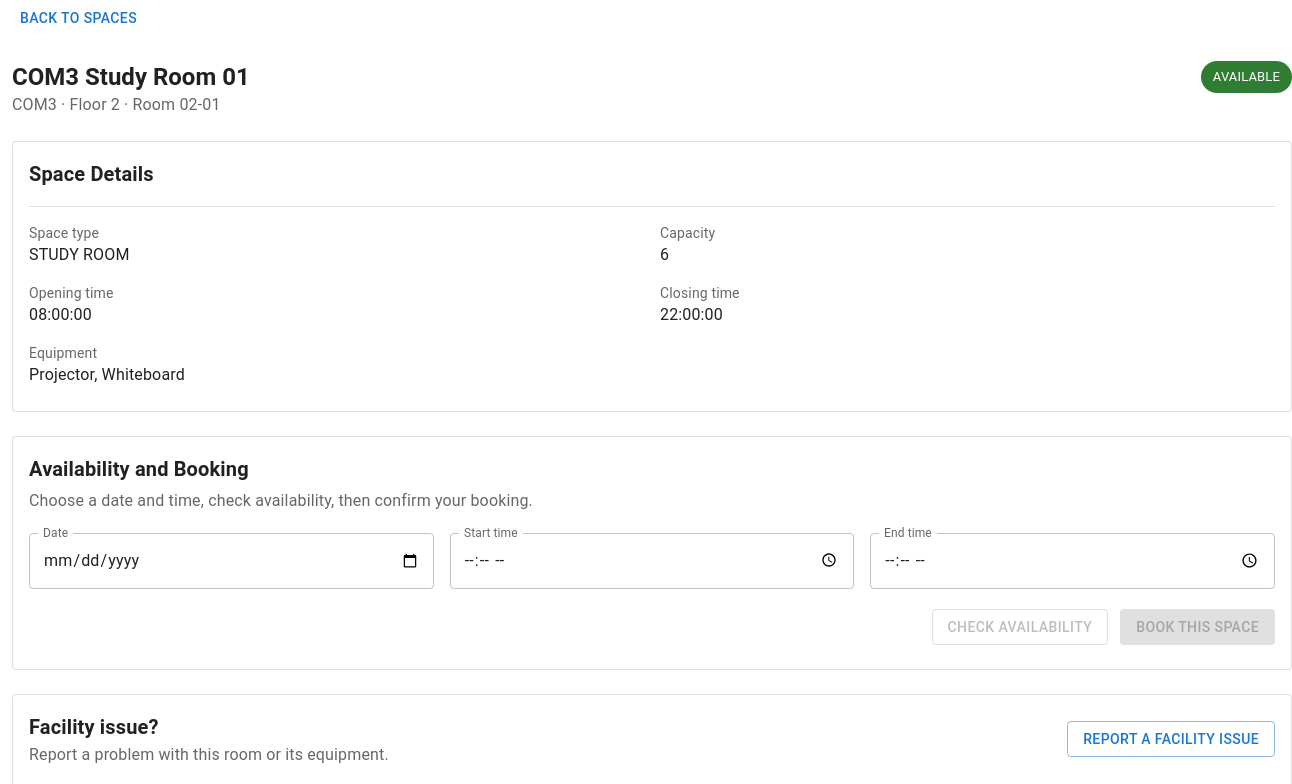
SpaceDetailsPage availability and booking › rejects an invalid time range without sending a request
Expected: the heading "COM3 Study Room 01" is shown, [12,60,250,92]
Type "2026-08-13" into the date field labelled "Date" at (231, 561), box [29,533,434,589]
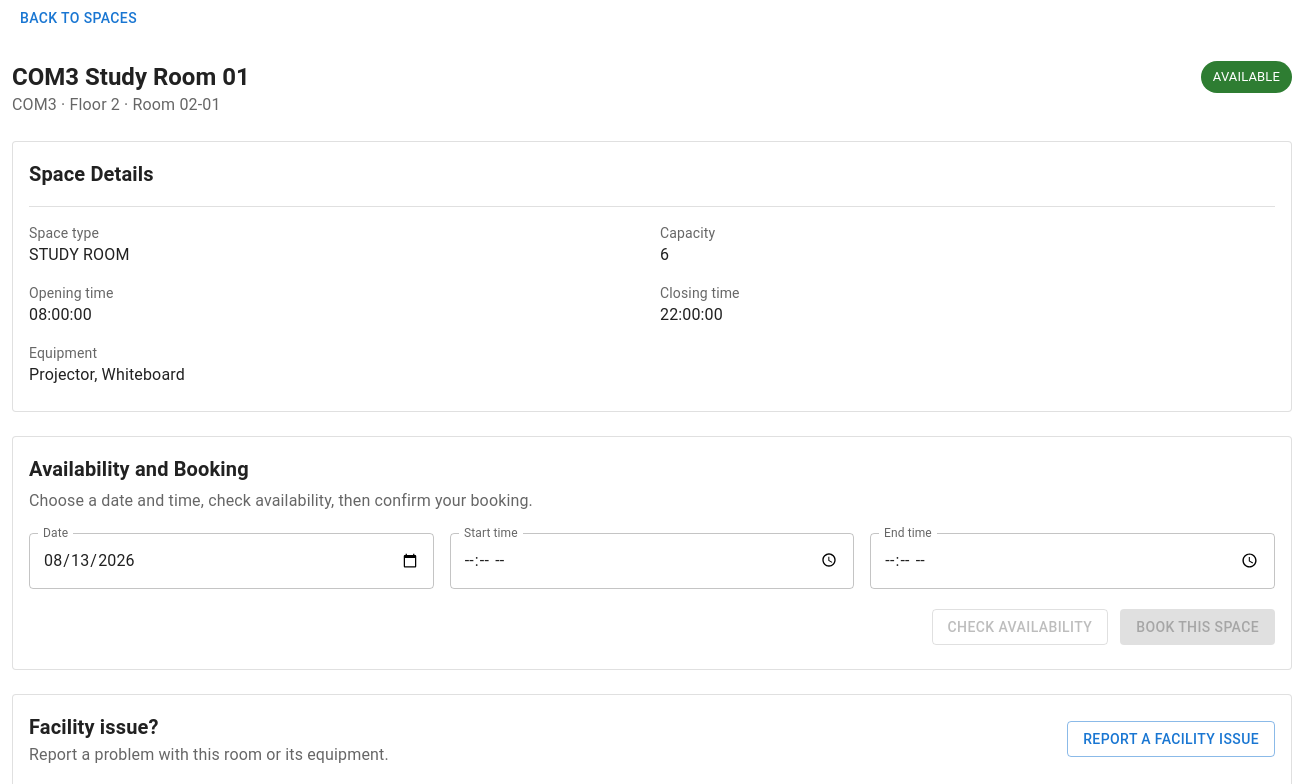
Type "16:00" into the time field labelled "Start time" at (652, 561), box [450,533,854,589]
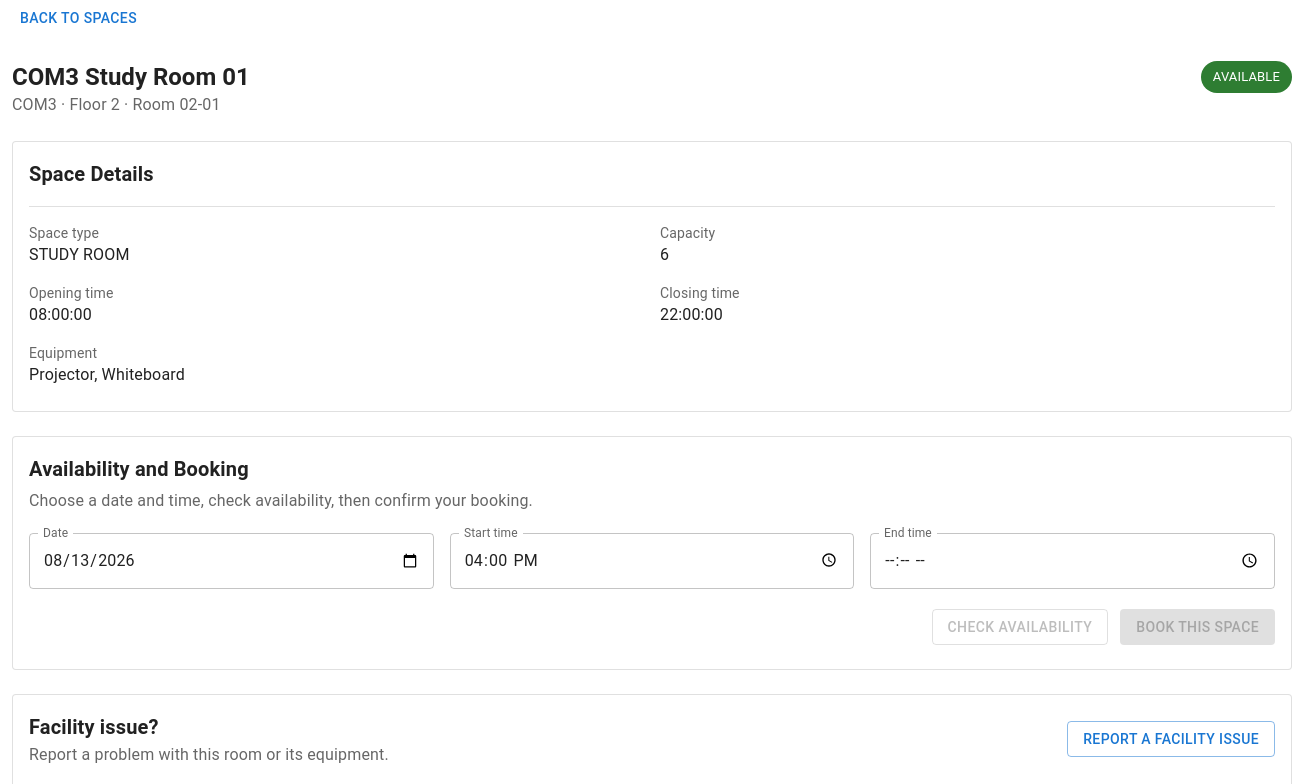
Type "14:00" into the time field labelled "End time" at (1073, 561), box [870,533,1275,589]
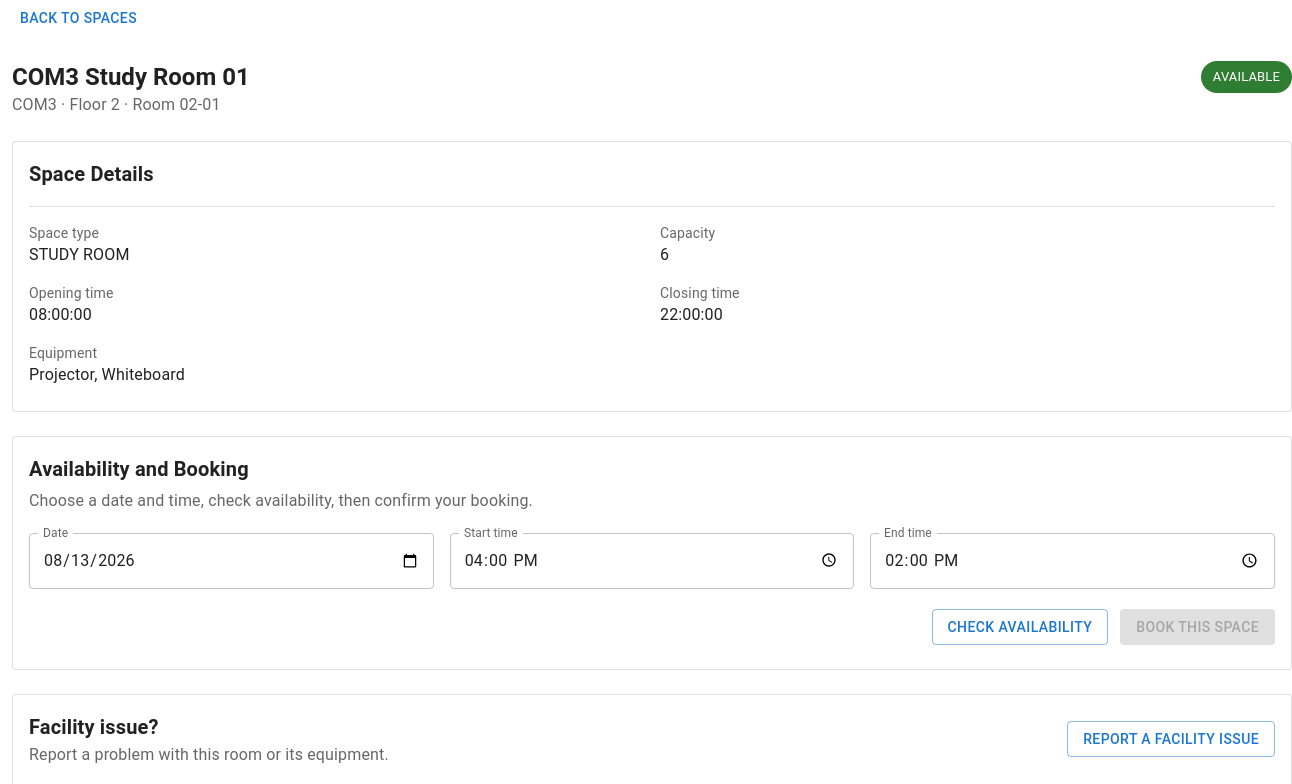
Click the button "Check Availability" at (1020, 627), box [932,609,1108,645]
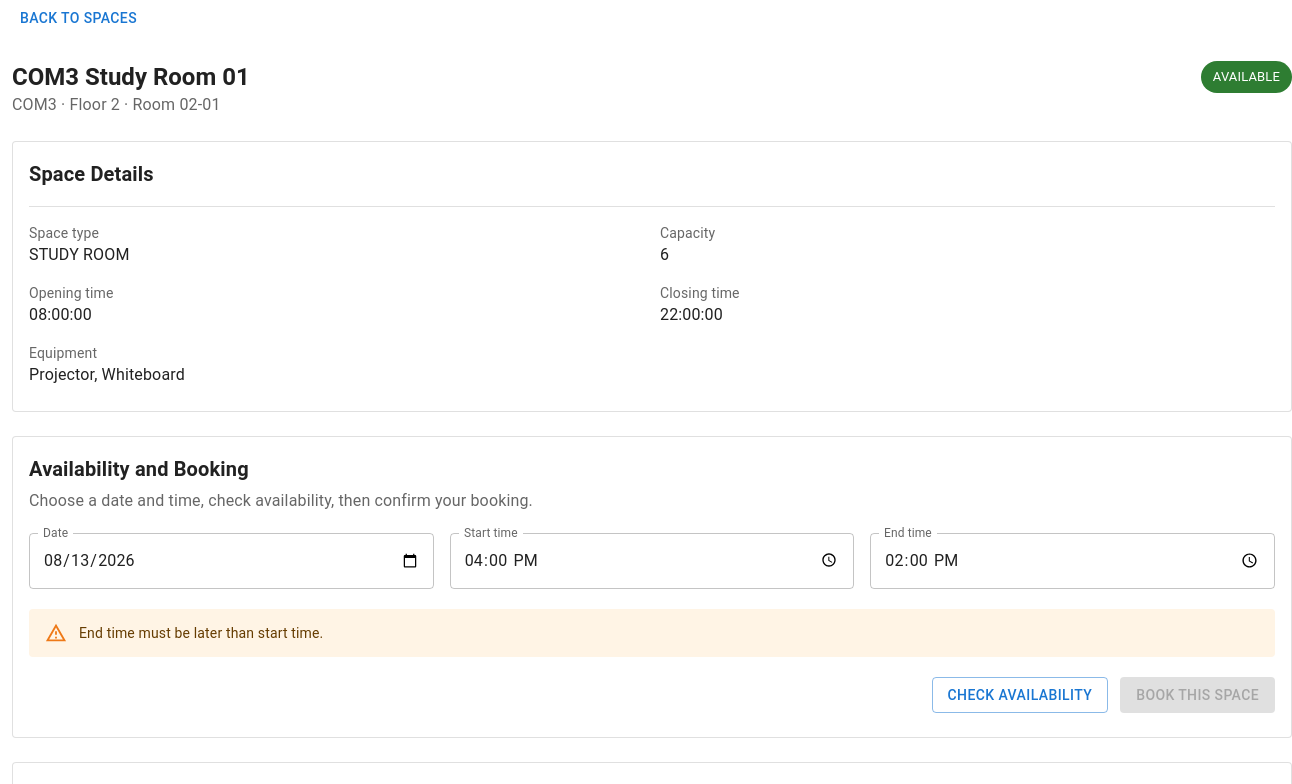
Expected: the text "End time must be later than start time." is shown, [79,625,323,641]
